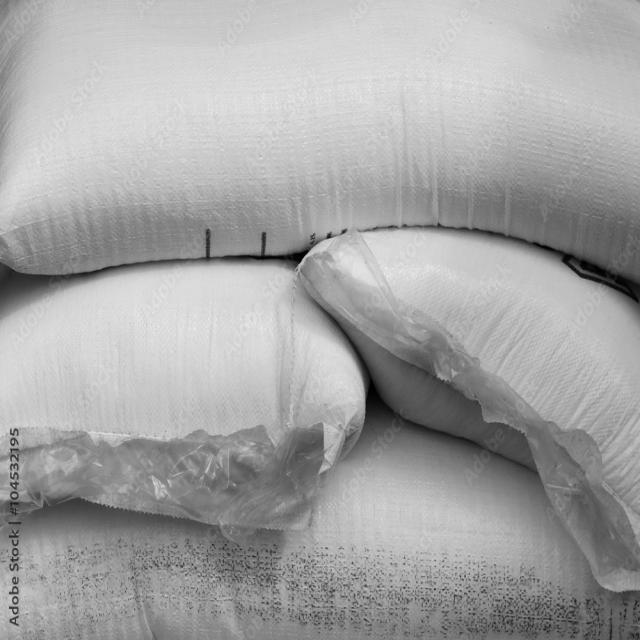sack: (2, 1, 639, 276), (0, 409, 640, 639), (296, 228, 640, 593), (2, 257, 369, 529)
